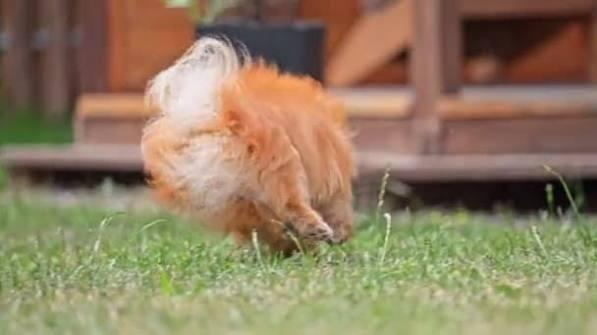adult_dog: (139, 32, 355, 263)
